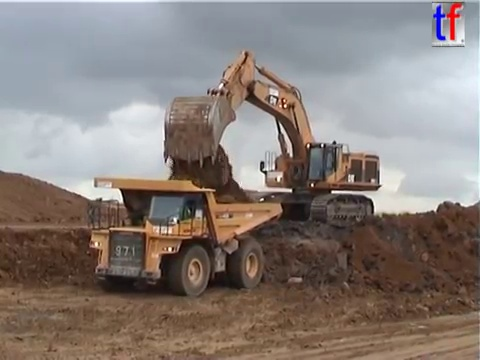excavator: (160, 47, 385, 230)
truck: (85, 175, 285, 299)
